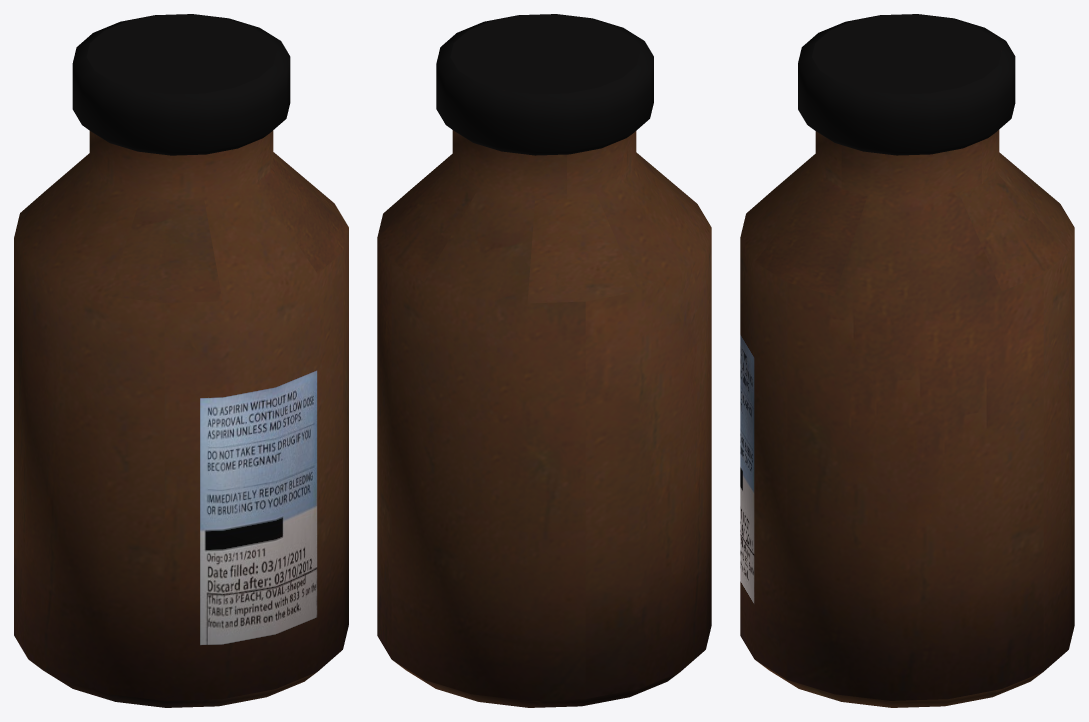
Rendered from Medicine 1.fbx.
3 renders of one model, left to right at view 1: azimuth 30°, elevation 25°; view 2: azimuth 150°, elevation 25°; view 3: azimuth 270°, elevation 25°, orthographic.
Parts seen in each view (by area): view 1: Medicine 1; view 2: Medicine 1; view 3: Medicine 1.
Part boxes in pixels (x1,y1,x2,y2): Medicine 1: (14,14,348,707); Medicine 1: (377,14,711,707); Medicine 1: (740,14,1074,707).
Bounding box in the file's own units: 4.55 × 8.87 × 4.56.
Materials: 1 (1 with a texture image).
